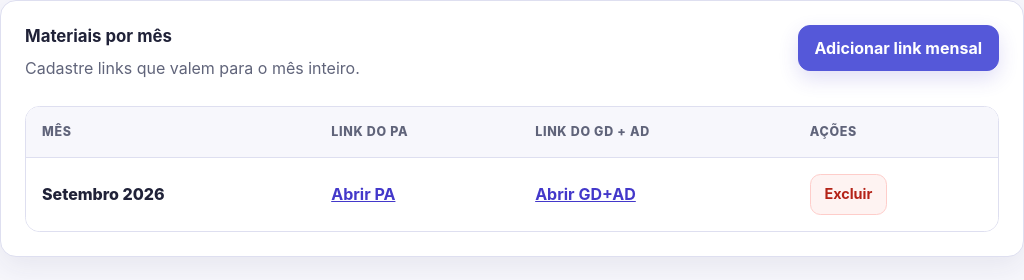
it: exclusão dos materiais mensais › exclui o mês confirmado e apresenta o estado vazio
Expected: the column heading "Setembro 2026" is shown, [26,158,315,231]
Click the button "Excluir". click: (848, 194)
box: [810,174,887,215]
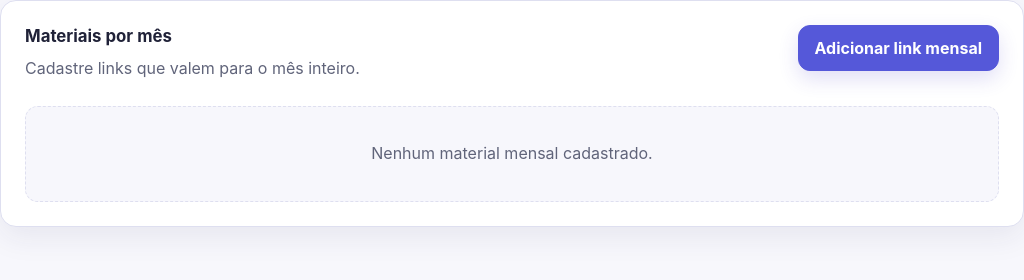
Expected: the text "Nenhum material mensal cadastrado." is shown, [25,106,999,202]
